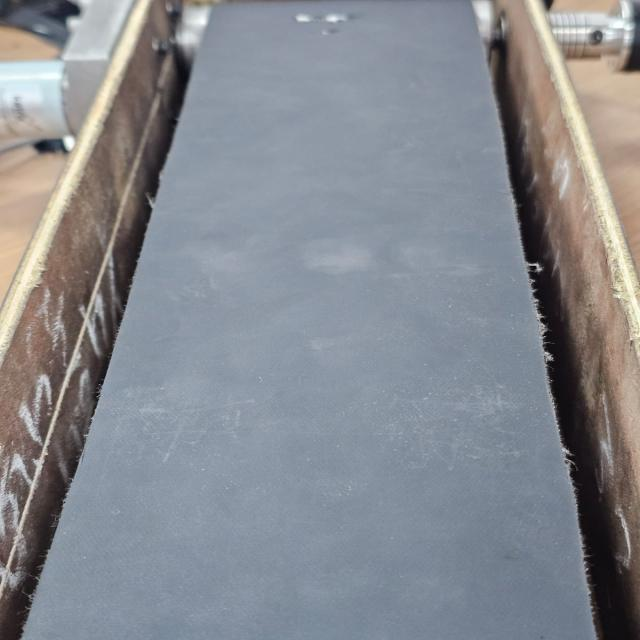crack: (291, 0, 364, 36), (356, 0, 394, 6)
